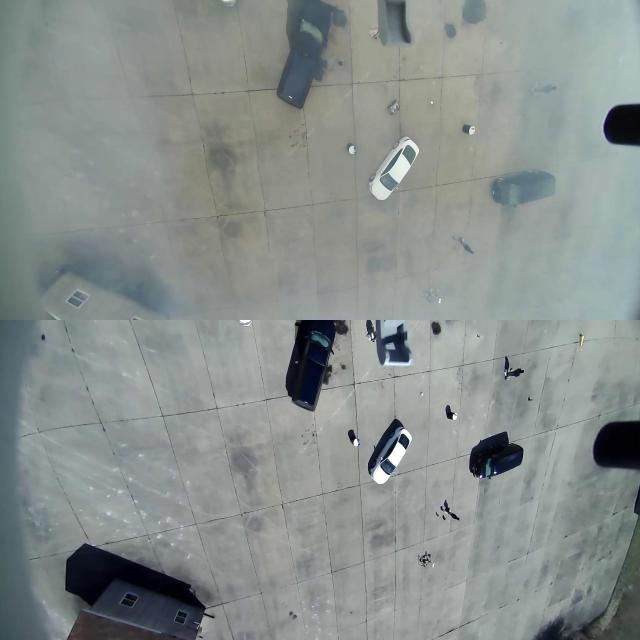car: (260, 0, 340, 129), (276, 323, 342, 426), (485, 167, 565, 213), (368, 138, 420, 202), (367, 421, 412, 485), (598, 94, 640, 156), (468, 441, 524, 479)
